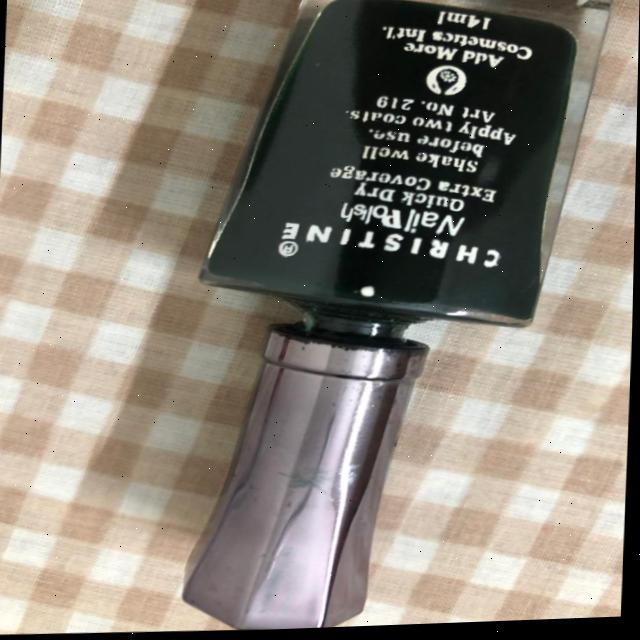nail polish: (157, 0, 616, 635)
